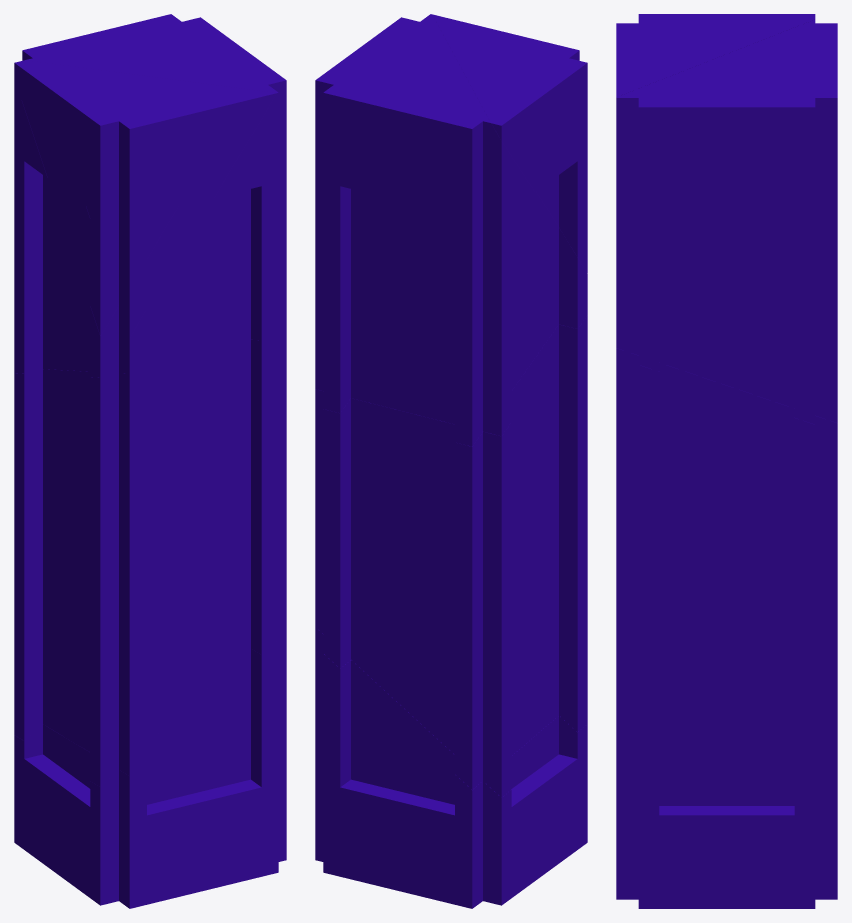
The model's file is skyscraper.gltf.
3 views of the same model, side by side, from view 1: azimuth 30°, elevation 25°; view 2: azimuth 150°, elevation 25°; view 3: azimuth 270°, elevation 25° (orthographic). The views are drawn at different scales.
Visible parts, largest first — view 1: Cube_cell.001, Cube_cell.002, Cube_cell, Cube_cell.003; view 2: Cube_cell.001, Cube_cell.002, Cube_cell, Cube_cell.003; view 3: Cube_cell.002, Cube_cell.001, Cube_cell, Cube_cell.003.
Boxes of the visible parts, x1=… form: Cube_cell.001: x1=14, y1=330, x2=286, y2=786; Cube_cell.002: x1=14, y1=14, x2=286, y2=377; Cube_cell: x1=14, y1=616, x2=286, y2=908; Cube_cell.003: x1=14, y1=60, x2=276, y2=337; Cube_cell.001: x1=315, y1=315, x2=587, y2=797; Cube_cell.002: x1=315, y1=14, x2=587, y2=446; Cube_cell: x1=315, y1=627, x2=587, y2=908; Cube_cell.003: x1=432, y1=14, x2=587, y2=272; Cube_cell.002: x1=616, y1=19, x2=837, y2=424; Cube_cell.001: x1=616, y1=348, x2=837, y2=674; Cube_cell: x1=616, y1=658, x2=837, y2=908; Cube_cell.003: x1=616, y1=14, x2=815, y2=97.
Size of the model in its own units: 5 by 20 by 5.
